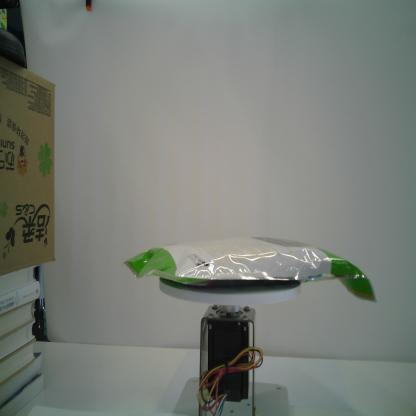Dried Food: (121, 234, 378, 304)
